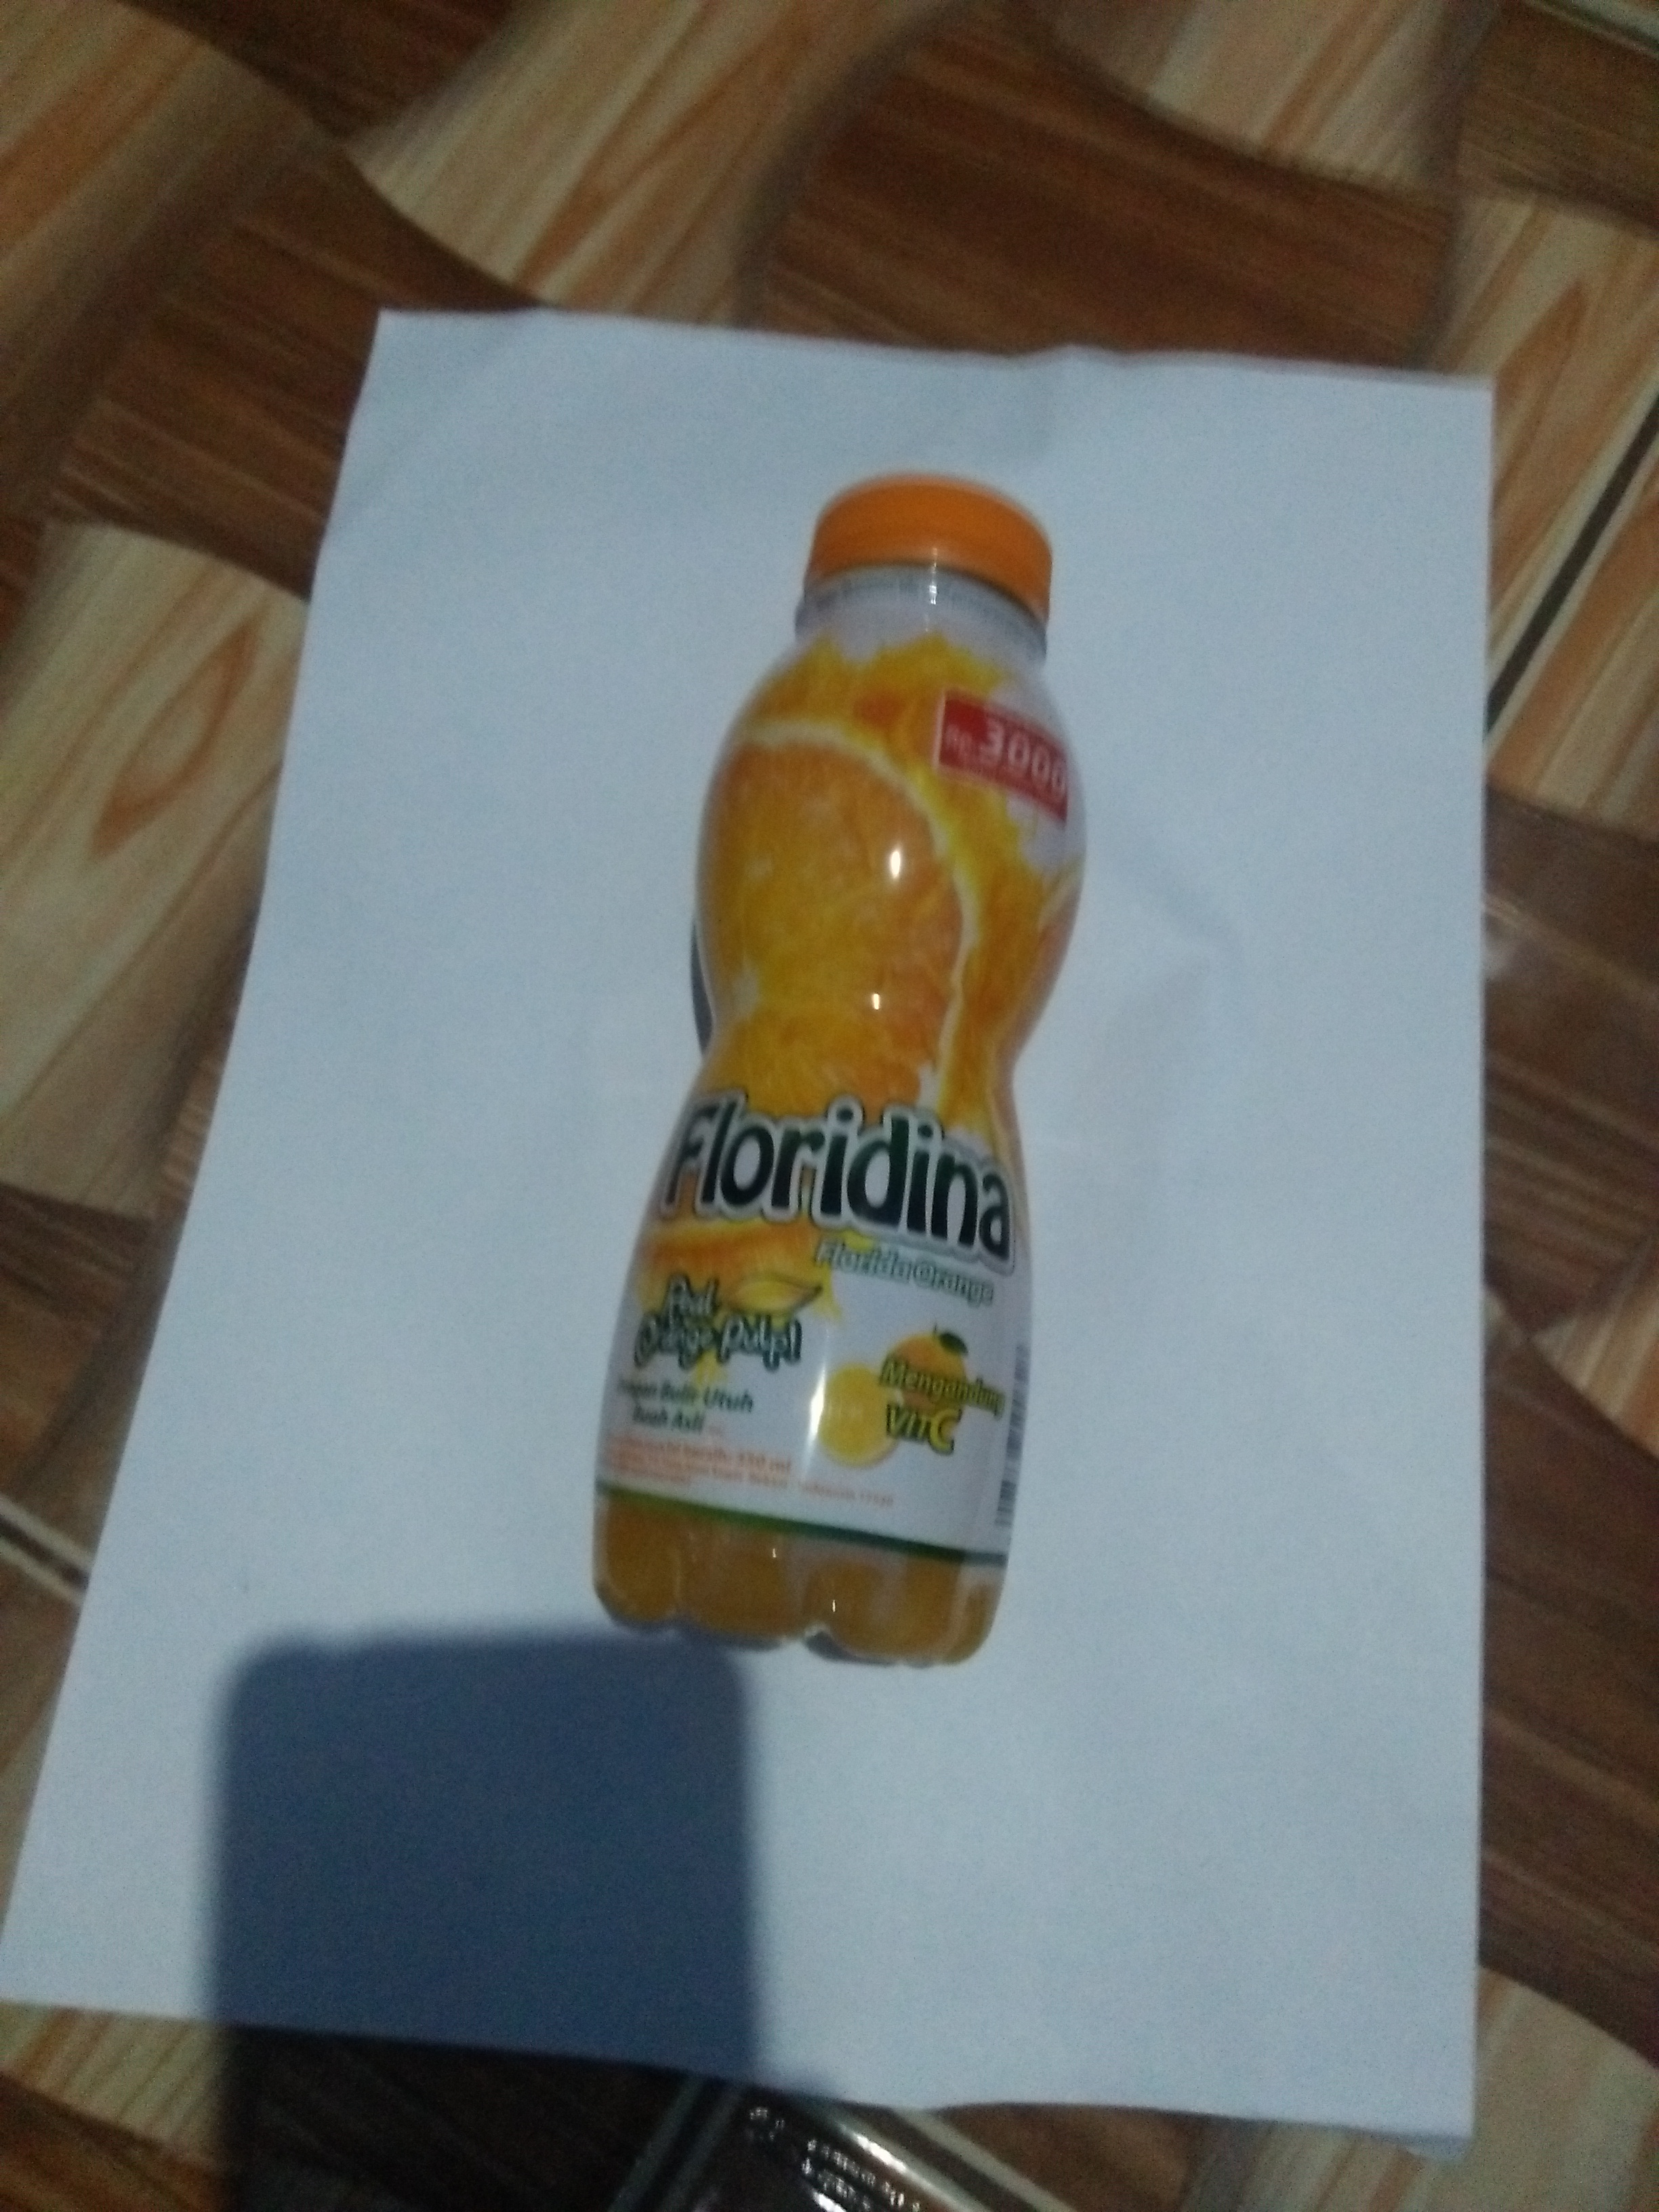Floridina: (586, 463, 1105, 1705)
